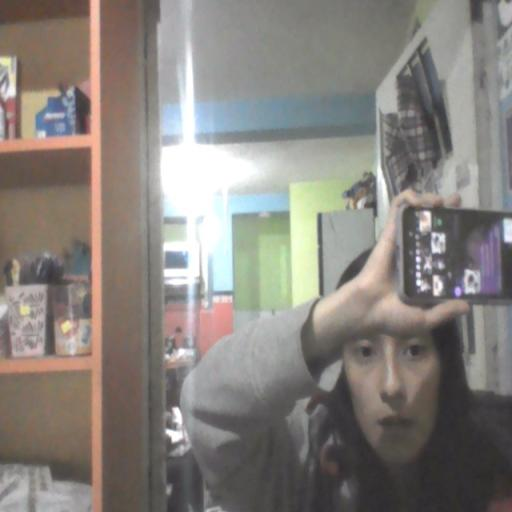phone: (392, 195, 512, 307)
